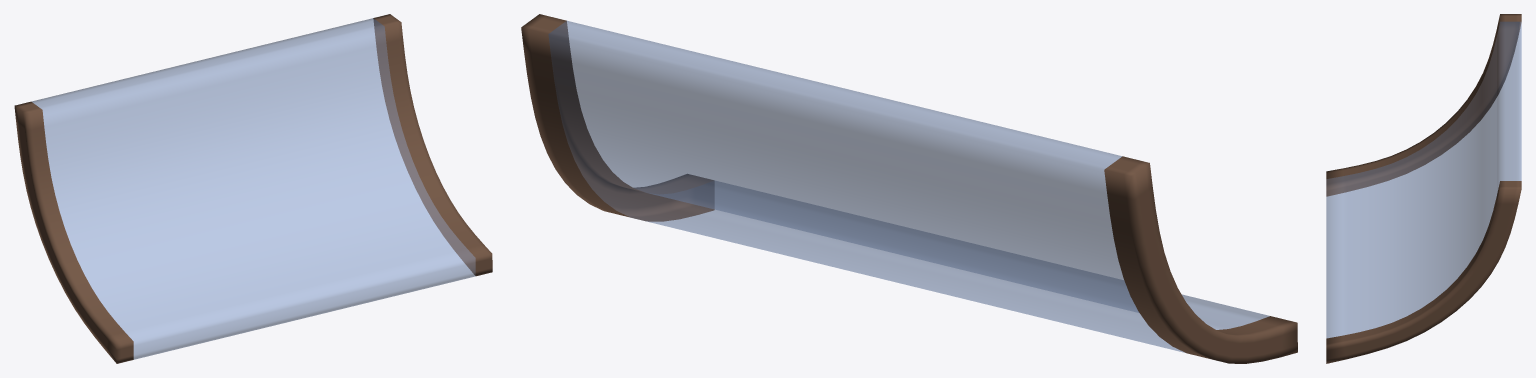
Rendered from quatrepipe.fbx.
3 views of the same model, side by side, from view 1: azimuth 30°, elevation 25°; view 2: azimuth 150°, elevation 25°; view 3: azimuth 270°, elevation 25° (orthographic). The views are drawn at different scales.
Visible parts, largest first — view 1: Circle; view 2: Circle; view 3: Circle.
Boxes of the visible parts, x1,y1,x2,y2 form: Circle: (14,14,492,363); Circle: (521,14,1297,363); Circle: (1326,14,1521,363).
Size of the model in its own units: 5.24 by 2.45 by 2.48.
